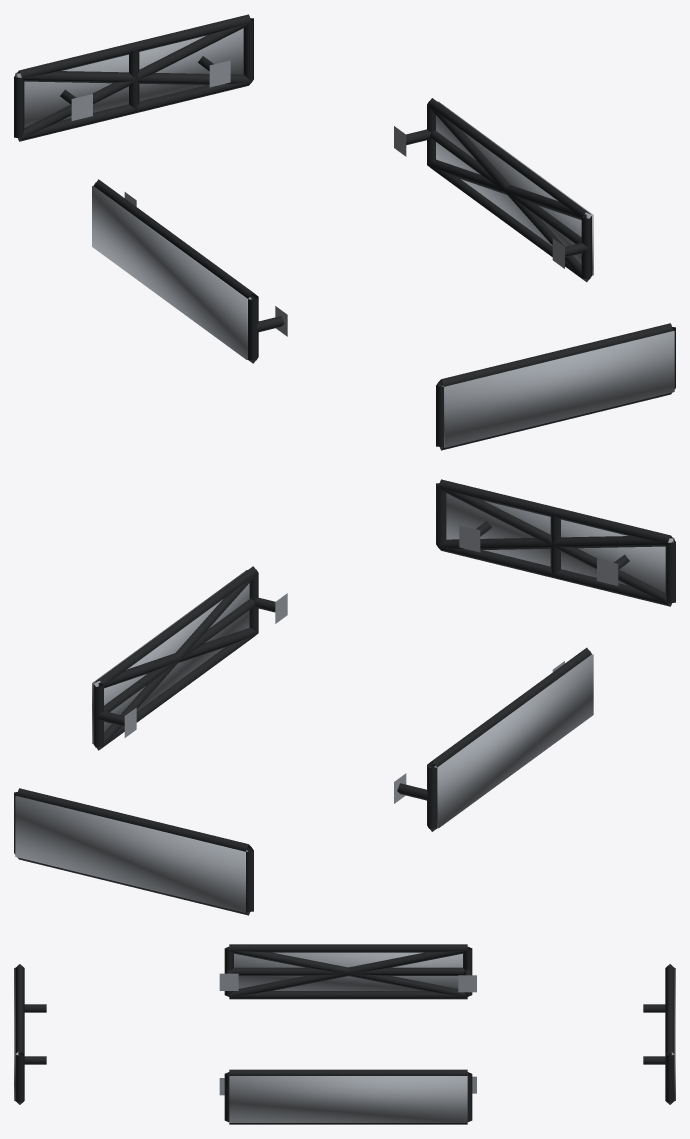
The model's file is volnar_caju_protecao.glb.
The picture shows the model from 3 angles, top to bottom: view 1: azimuth 30°, elevation 25°; view 2: azimuth 150°, elevation 25°; view 3: azimuth 270°, elevation 25°; orthographic projection. The views are drawn at different scales.
Parts seen in each view (by area): view 1: Protection_front_Level3_Details, Protection_left_Level3_Details, Protection_rear_Level1_Details, Protection_rear_Level3_Details, Protection_right_Level1_Details, Protection_rear_Level2_Details, Protection_right_Level2_Details, Protection_right_Level3_Details, Protection_front_Level1_Details, Protection_left_Level1_Details; view 2: Protection_rear_Level3_Details, Protection_left_Level3_Details, Protection_front_Level1_Details, Protection_front_Level3_Details, Protection_right_Level1_Details, Protection_front_Level2_Details, Protection_right_Level2_Details, Protection_right_Level3_Details, Protection_rear_Level1_Details, Protection_left_Level1_Details; view 3: Protection_right_Level3_Details, Protection_left_Level2_Details, Protection_left_Level1_Details, Protection_left_Level3_Details, Protection_right_Level1_Details, Protection_rear_Level1_Details, Protection_front_Level1_Details.
Part boxes in pixels (x1,y1,x2,y2): Protection_front_Level3_Details: [442, 331, 674, 447]; Protection_left_Level3_Details: [92, 186, 251, 359]; Protection_rear_Level1_Details: [14, 14, 253, 141]; Protection_rear_Level3_Details: [15, 28, 243, 127]; Protection_right_Level1_Details: [394, 98, 591, 282]; Protection_rear_Level2_Details: [16, 22, 251, 140]; Protection_right_Level2_Details: [427, 105, 590, 281]; Protection_right_Level3_Details: [436, 101, 593, 275]; Protection_front_Level1_Details: [436, 323, 675, 450]; Protection_left_Level1_Details: [93, 179, 287, 363]; Protection_rear_Level3_Details: [15, 796, 247, 912]; Protection_left_Level3_Details: [434, 654, 593, 828]; Protection_front_Level1_Details: [436, 479, 675, 606]; Protection_front_Level3_Details: [446, 493, 674, 592]; Protection_right_Level1_Details: [93, 566, 287, 750]; Protection_front_Level2_Details: [438, 487, 673, 605]; Protection_right_Level2_Details: [94, 573, 258, 749]; Protection_right_Level3_Details: [92, 570, 249, 743]; Protection_rear_Level1_Details: [14, 788, 253, 915]; Protection_left_Level1_Details: [394, 647, 591, 831]; Protection_right_Level3_Details: [229, 1076, 467, 1122]; Protection_left_Level2_Details: [228, 947, 467, 996]; Protection_left_Level1_Details: [219, 944, 476, 999]; Protection_left_Level3_Details: [234, 952, 462, 990]; Protection_right_Level1_Details: [219, 1069, 476, 1124]; Protection_rear_Level1_Details: [643, 964, 674, 1104]; Protection_front_Level1_Details: [15, 964, 46, 1104].
Size of the model in its own units: 1.8 by 0.354 by 3.86.
Materials: 1 (1 with a texture image).
